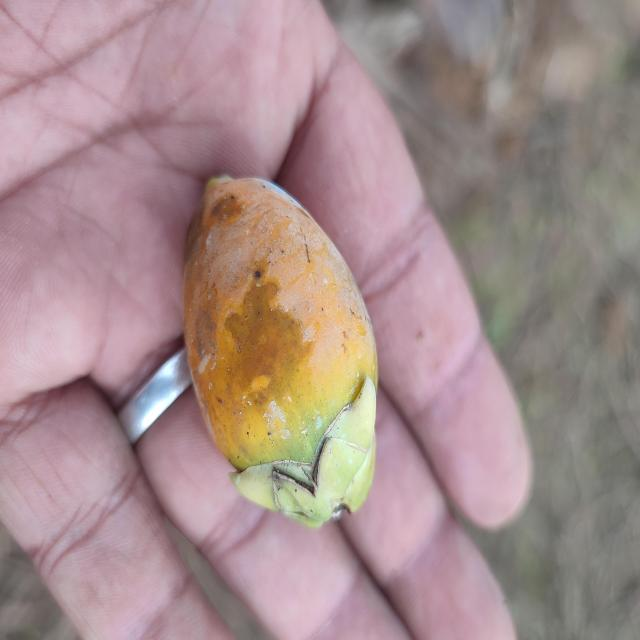good: (182, 177, 380, 531)
